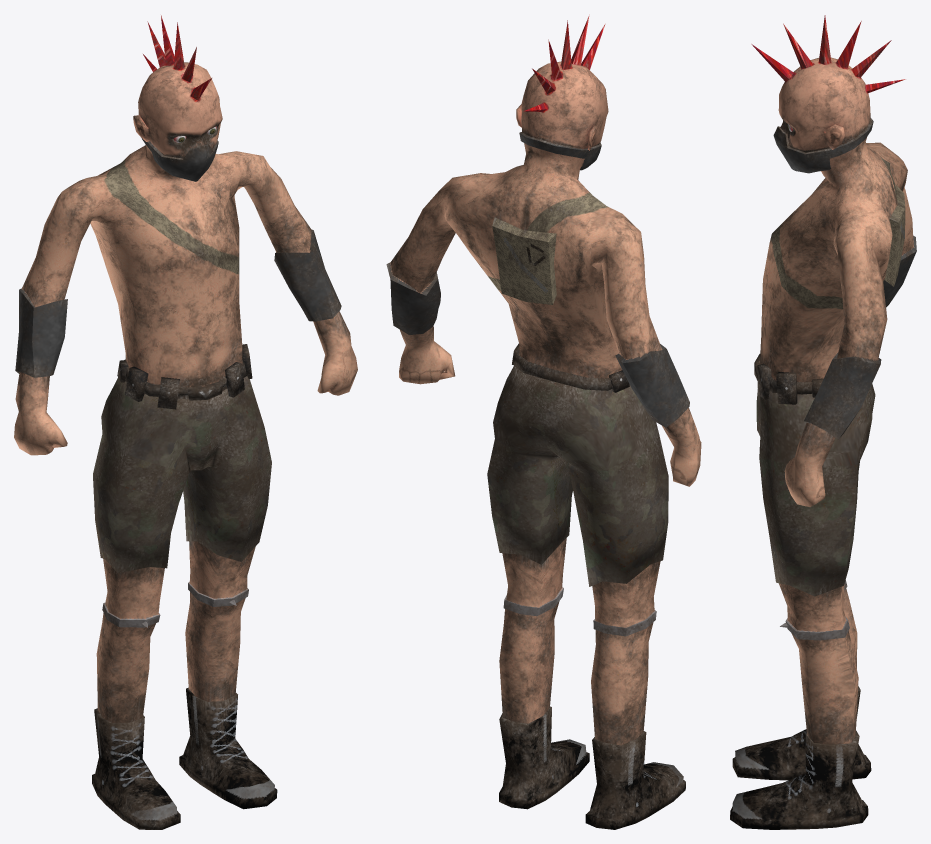
File: Anim_recibirdanyo_1_npc2.0013.obj
3 renders of one model, left to right at view 1: azimuth 30°, elevation 25°; view 2: azimuth 150°, elevation 25°; view 3: azimuth 270°, elevation 25°, orthographic. The views are drawn at different scales.
Visible parts, largest first — view 1: polySurface1; view 2: polySurface1; view 3: polySurface1.
Boxes of the visible parts, left/top/right/bottom form: polySurface1: left=14, top=15, right=357, bottom=829; polySurface1: left=386, top=14, right=701, bottom=829; polySurface1: left=730, top=15, right=916, bottom=829.
Bounding box in the file's own units: 4.37 × 10.09 × 2.18.
